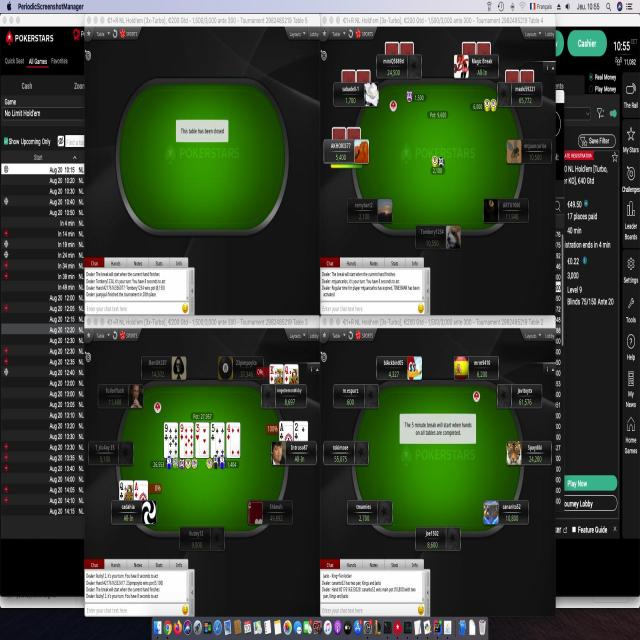2C: (294, 421, 299, 438)
3H: (196, 422, 200, 441)
4D: (226, 422, 230, 439)
5C: (209, 421, 215, 441)
9C: (163, 421, 170, 441)
9D: (178, 421, 185, 441)
AC: (278, 422, 285, 441)
AD: (134, 481, 140, 497)
KD: (268, 364, 276, 382)
QC: (118, 481, 124, 500)
QD: (284, 364, 290, 384)
